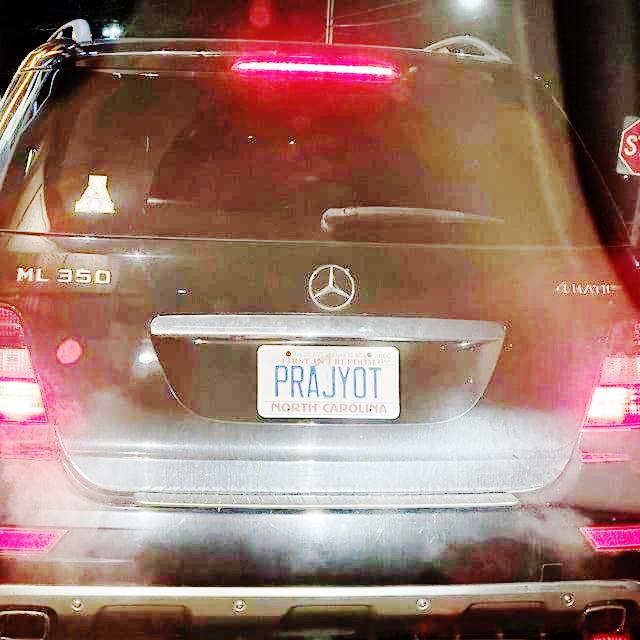license_plate: (257, 346, 398, 418)
